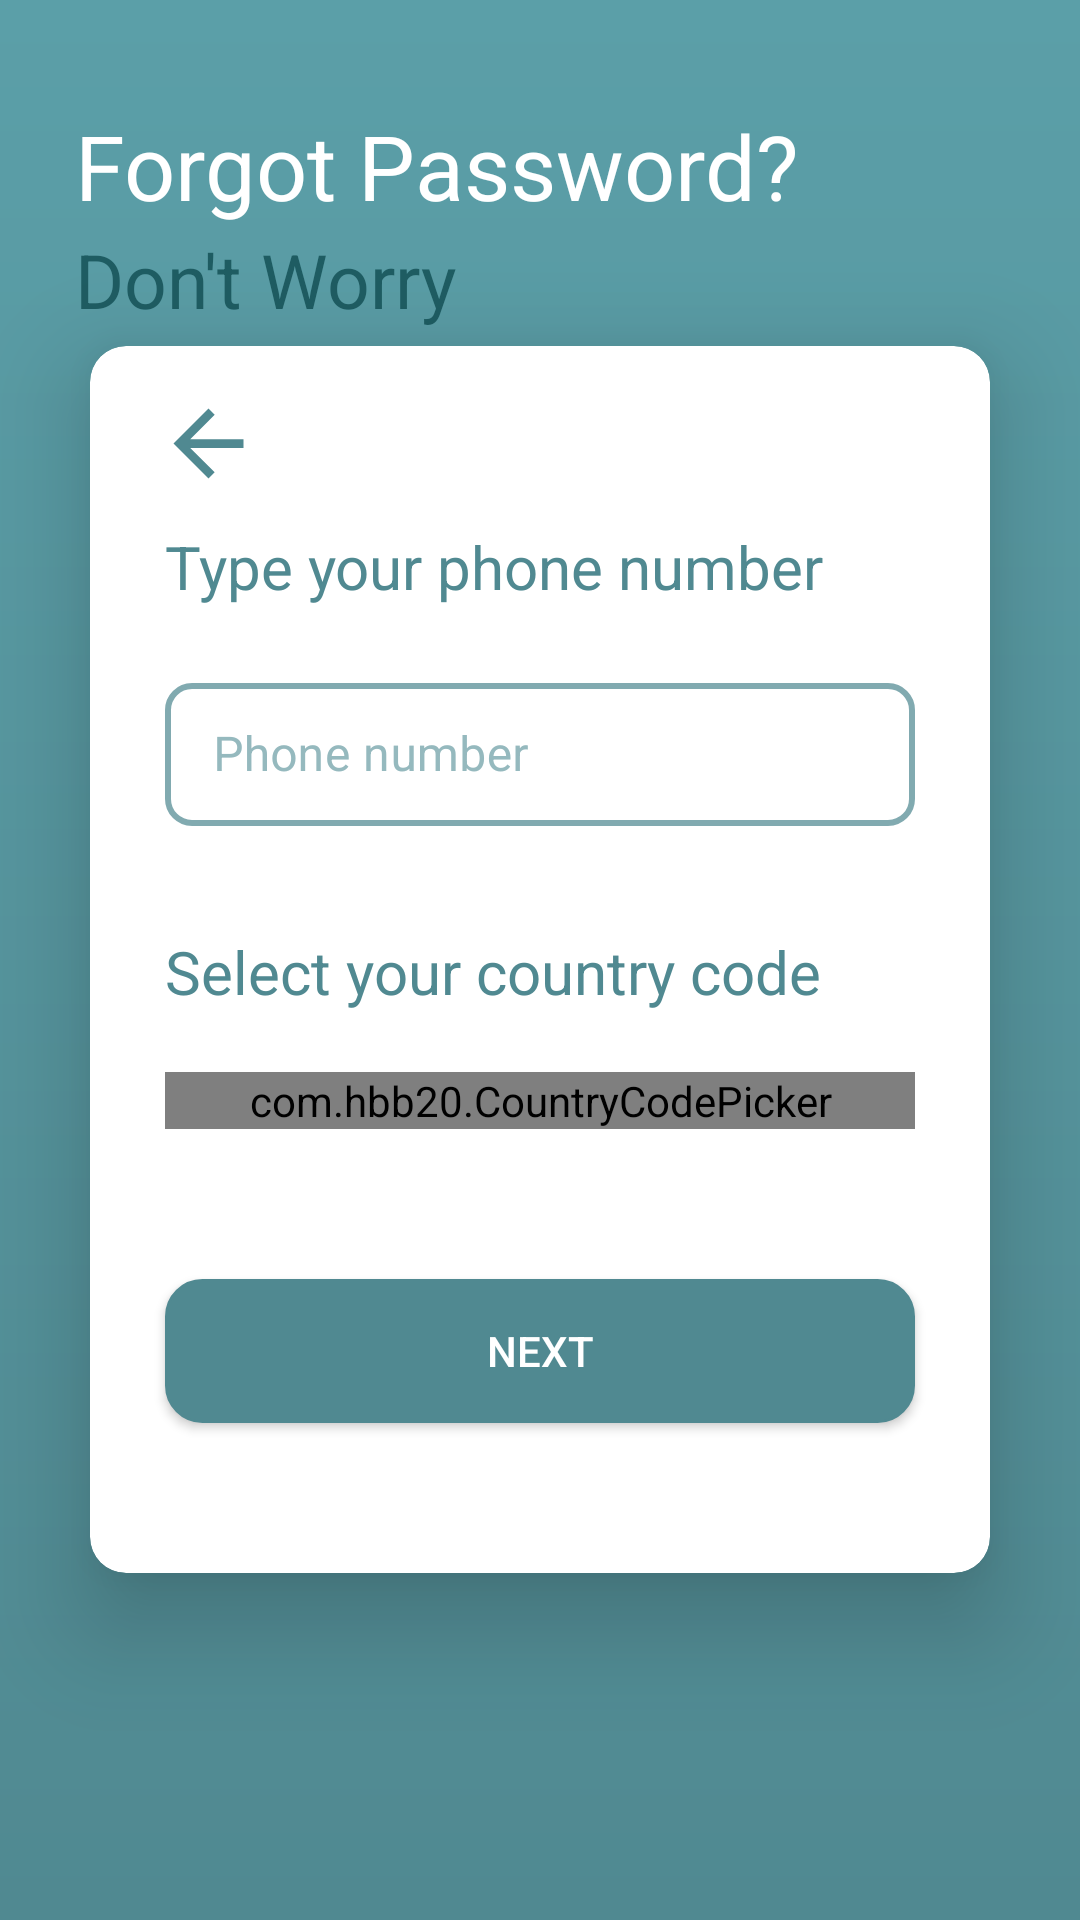

Named icons in this screenshot (1080 x 1920) and their centers, (x,y):
back: (208,443)
